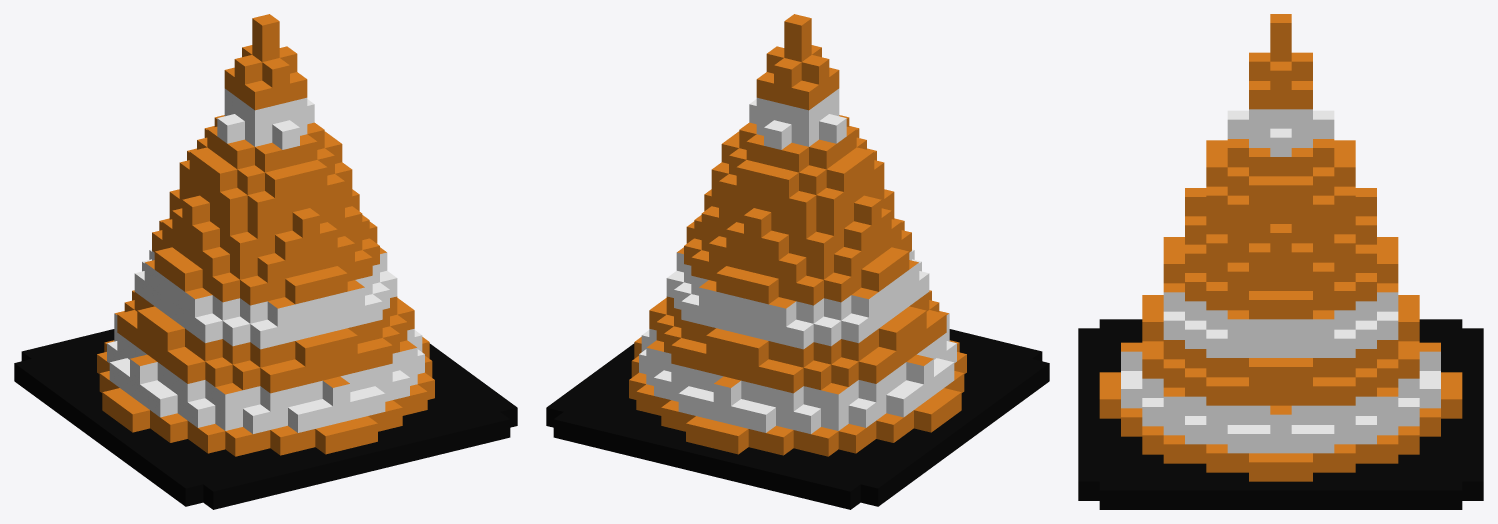
File: TrafficCone.fbx
The picture shows the model from 3 angles, left to right: view 1: azimuth 30°, elevation 25°; view 2: azimuth 150°, elevation 25°; view 3: azimuth 270°, elevation 25°; orthographic projection. The views are drawn at different scales.
Parts seen in each view (by area): view 1: TrafficCone; view 2: TrafficCone; view 3: TrafficCone.
Boxes of the visible parts, x1,y1,x2,y2 form: TrafficCone: (14, 14, 517, 509); TrafficCone: (546, 14, 1049, 509); TrafficCone: (1078, 14, 1483, 509).
Size of the model in its own units: 1.9 by 1.9 by 2.1.
